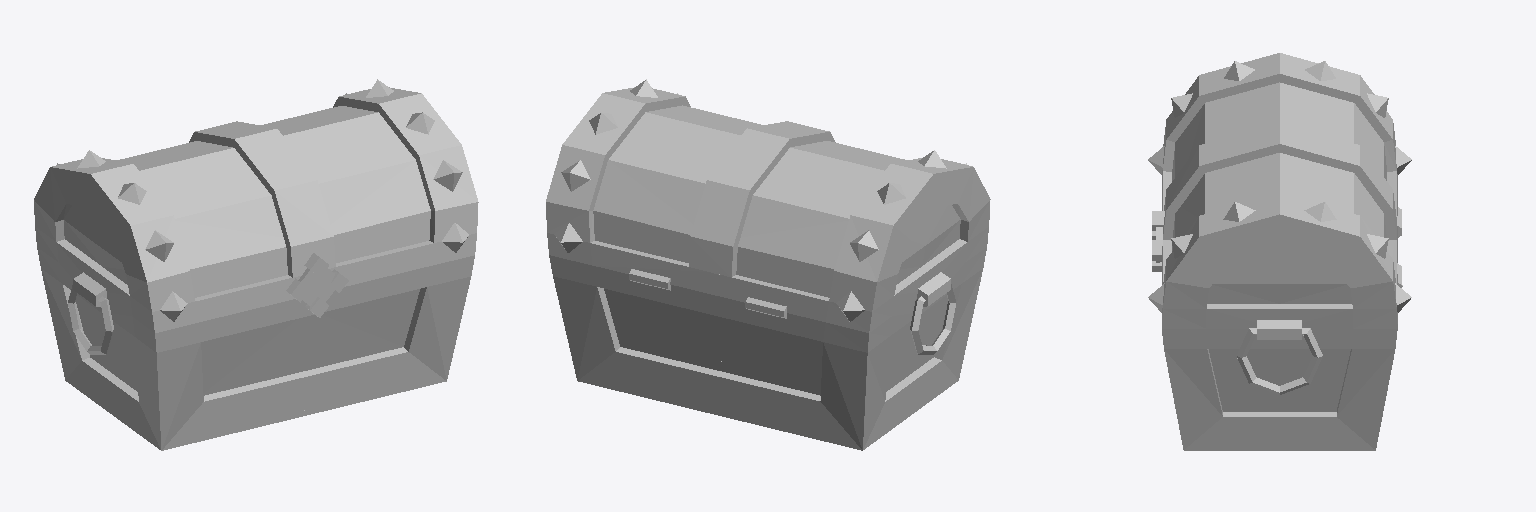
File: Chest.obj
The picture shows the model from 3 angles: view 1: azimuth 30°, elevation 25°; view 2: azimuth 150°, elevation 25°; view 3: azimuth 270°, elevation 25°; orthographic projection.
Visible parts, largest first — view 1: Chest; view 2: Chest; view 3: Chest.
Part boxes in pixels (left/top/right/bottom): Chest: left=34, top=79, right=478, bottom=450; Chest: left=546, top=79, right=990, bottom=450; Chest: left=1148, top=53, right=1411, bottom=450.
Bounding box in the file's own units: 82.9 × 57.65 × 55.32.